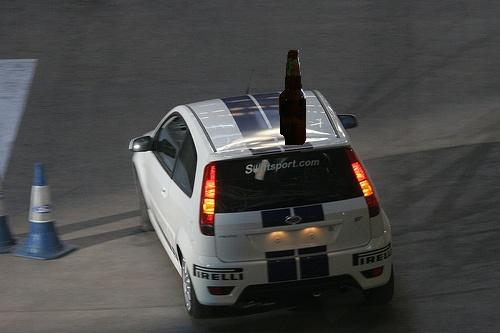tampered: (280, 51, 306, 145)
